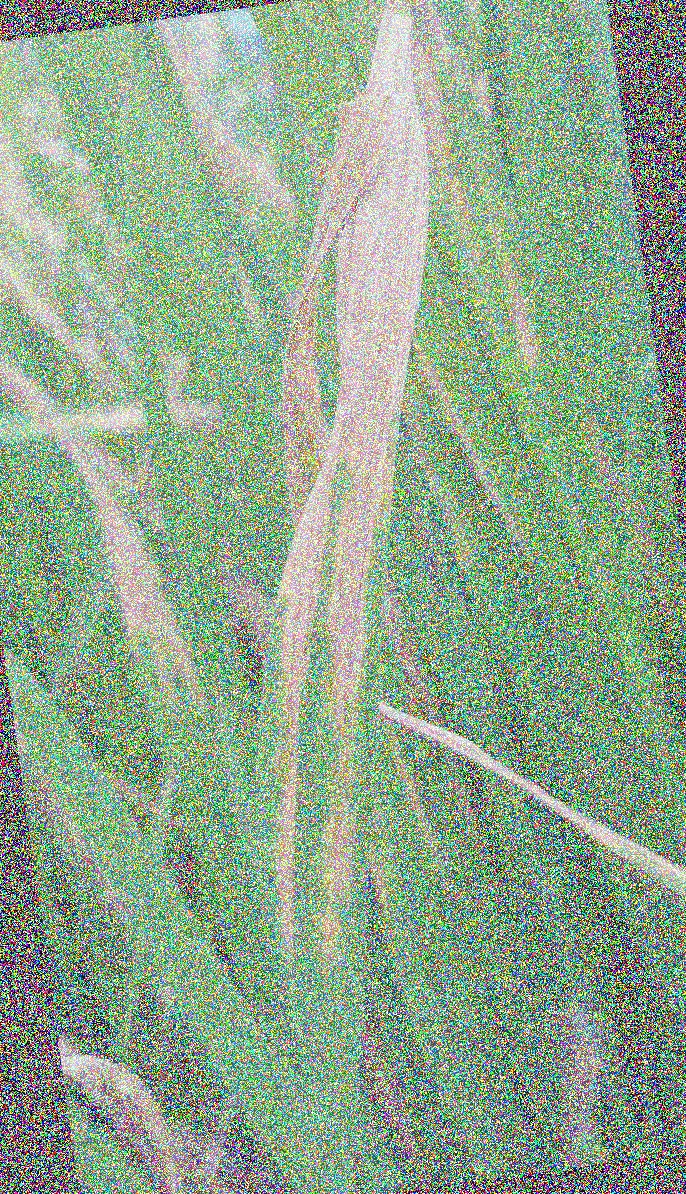Leaf_Blast: (214, 22, 478, 984)
